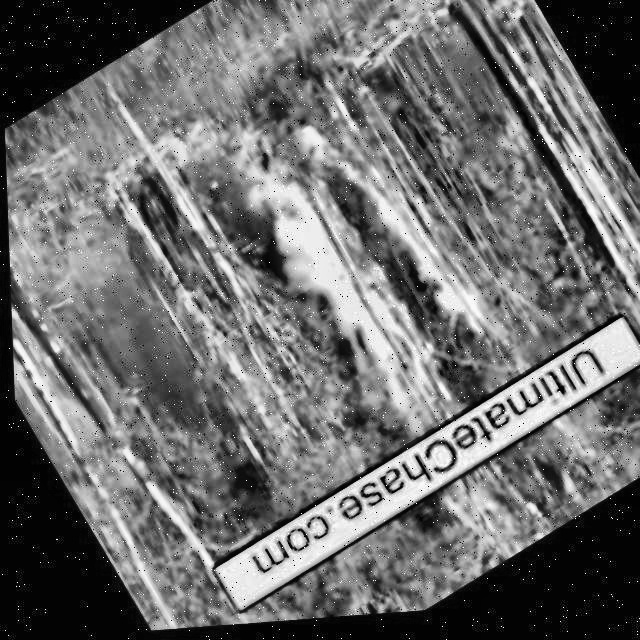Fire: (205, 73, 536, 479), (425, 461, 524, 578), (147, 103, 235, 185)
